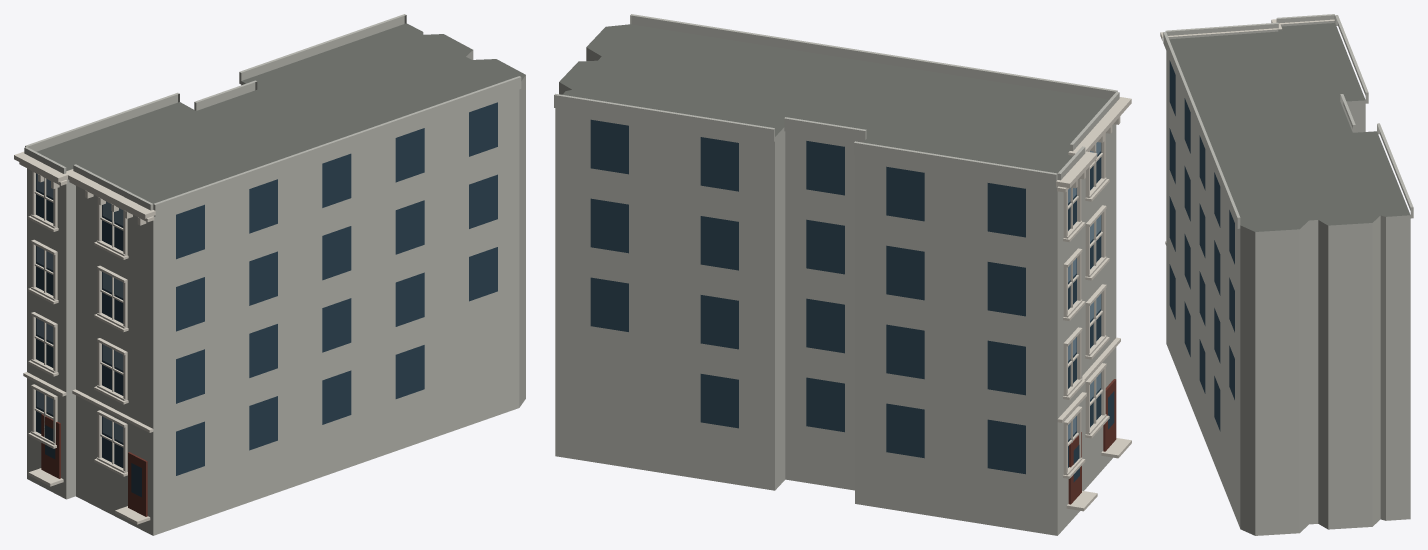
The picture shows the model from 3 angles, left to right: view 1: azimuth 30°, elevation 25°; view 2: azimuth 150°, elevation 25°; view 3: azimuth 270°, elevation 25°; orthographic projection. The views are drawn at different scales.
Visible parts, largest first — view 1: Footprint 0 / surface 2, Footprint 0 / surface 1, Inset glazing, Cornices and window frames, Facade bay volumes, Sky reflection panels, Storefronts and doors; view 2: Footprint 0 / surface 2, Footprint 0 / surface 1, Inset glazing, Facade bay volumes, Cornices and window frames, Storefronts and doors, Sky reflection panels; view 3: Footprint 0 / surface 2, Footprint 0 / surface 1, Inset glazing, Facade bay volumes, Cornices and window frames.
Boxes of the visible parts, left/top/right/bottom form: Footprint 0 / surface 2: left=27, top=50, right=525, bottom=535; Footprint 0 / surface 1: left=36, top=23, right=525, bottom=203; Inset glazing: left=36, top=102, right=497, bottom=497; Cornices and window frames: left=14, top=151, right=155, bottom=524; Facade bay volumes: left=24, top=14, right=521, bottom=216; Sky reflection panels: left=36, top=174, right=123, bottom=442; Storefronts and doors: left=41, top=414, right=147, bottom=516; Footprint 0 / surface 2: left=555, top=47, right=1116, bottom=535; Footprint 0 / surface 1: left=559, top=24, right=1108, bottom=173; Inset glazing: left=590, top=119, right=1114, bottom=482; Facade bay volumes: left=554, top=14, right=1119, bottom=187; Cornices and window frames: left=1056, top=97, right=1131, bottom=511; Storefronts and doors: left=1068, top=379, right=1116, bottom=504; Sky reflection panels: left=1068, top=142, right=1100, bottom=440; Footprint 0 / surface 2: left=1166, top=51, right=1410, bottom=535; Footprint 0 / surface 1: left=1169, top=23, right=1410, bottom=231; Inset glazing: left=1169, top=60, right=1234, bottom=431; Facade bay volumes: left=1163, top=14, right=1413, bottom=228; Cornices and window frames: left=1160, top=19, right=1334, bottom=245.
Size of the model in its own units: 20.9 by 14.15 by 10.41.
